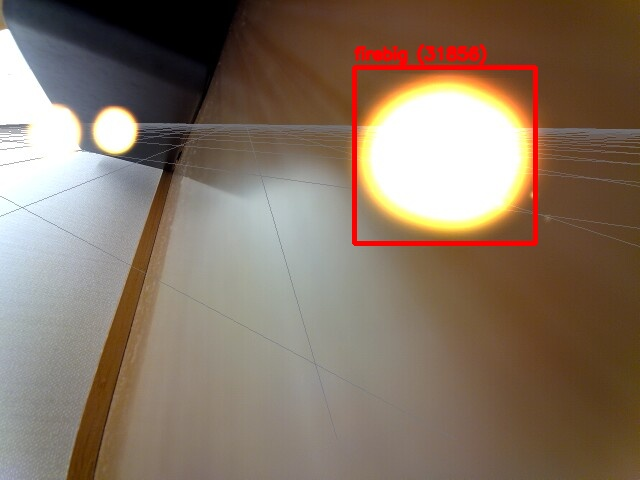firebig: (354, 67, 535, 243)
